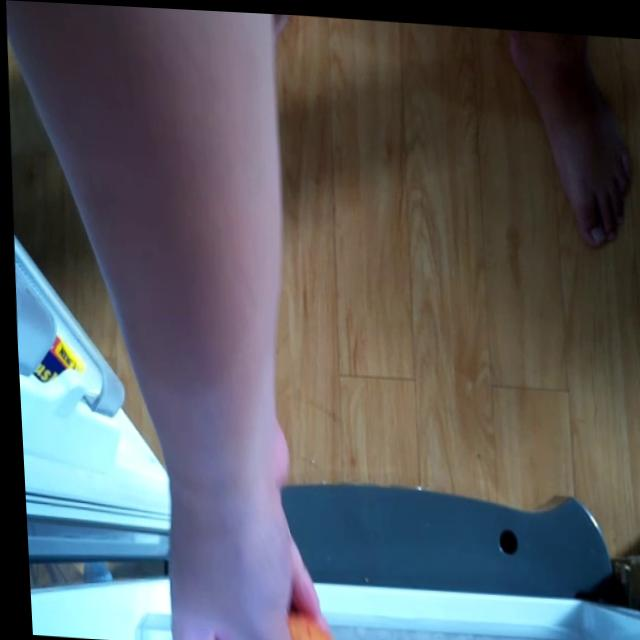apple: (278, 603, 336, 640)
